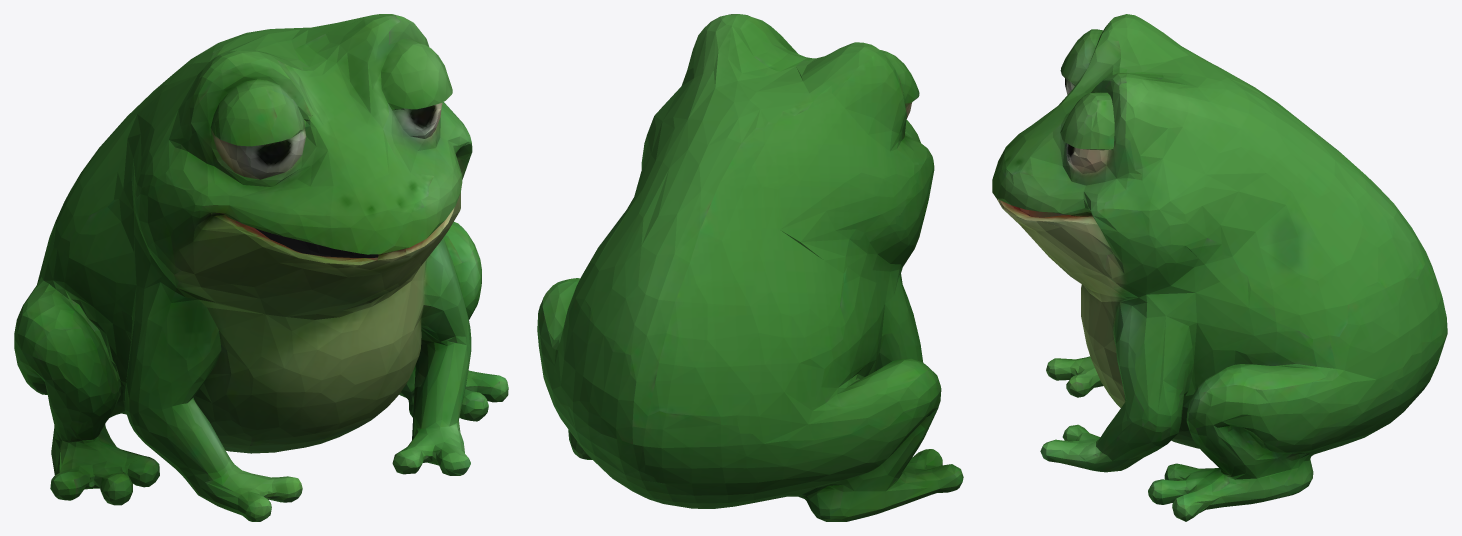
File: m-frog.glb
3 views of the same model, side by side, from view 1: azimuth 30°, elevation 25°; view 2: azimuth 150°, elevation 25°; view 3: azimuth 270°, elevation 25° (orthographic). The views are drawn at different scales.
Visible parts, largest first — view 1: geometry_0; view 2: geometry_0; view 3: geometry_0.
Part boxes in pixels (left/top/right/bottom): geometry_0: left=14, top=14, right=508, bottom=521; geometry_0: left=537, top=14, right=963, bottom=521; geometry_0: left=992, top=14, right=1447, bottom=521.
Bounding box in the file's own units: 0.9791 × 0.9409 × 0.9964.
Materials: 1 (1 with a texture image).
